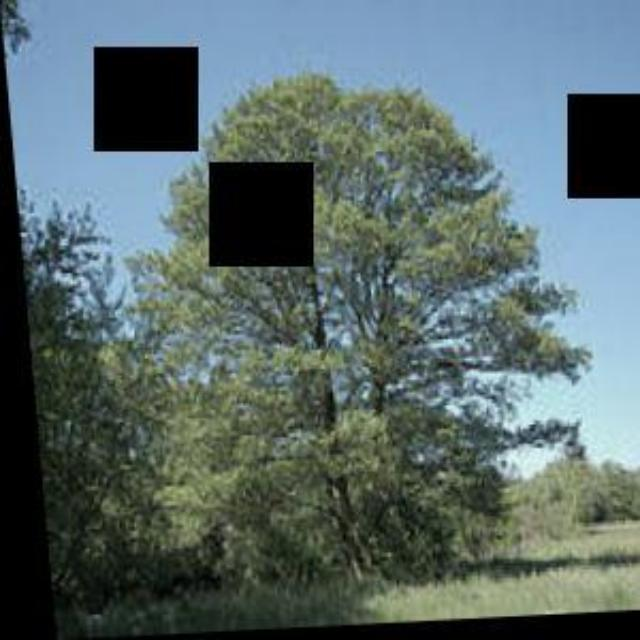tree: (109, 60, 586, 582)
